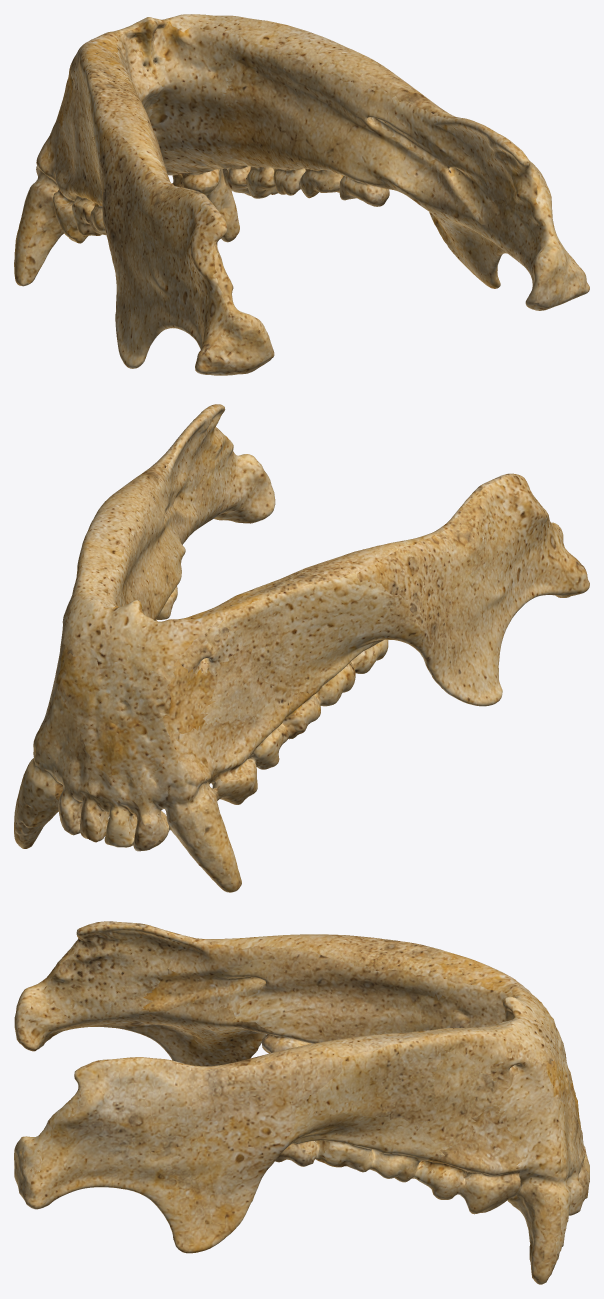
The model's file is black-crested-gibbon-mandible-1k-v01-textured-v02.glb.
The picture shows the model from 3 angles, top to bottom: view 1: azimuth 30°, elevation 25°; view 2: azimuth 150°, elevation 25°; view 3: azimuth 270°, elevation 25°; orthographic projection. The views are drawn at different scales.
Parts seen in each view (by area): view 1: Mesh_0; view 2: Mesh_0; view 3: Mesh_0.
Boxes of the visible parts, bbox=[...] form: Mesh_0: bbox=[14, 14, 589, 375]; Mesh_0: bbox=[14, 404, 589, 892]; Mesh_0: bbox=[14, 921, 589, 1284].
Size of the model in its own units: 52.97 by 34.21 by 71.76.
Materials: 1 (1 with a texture image).
